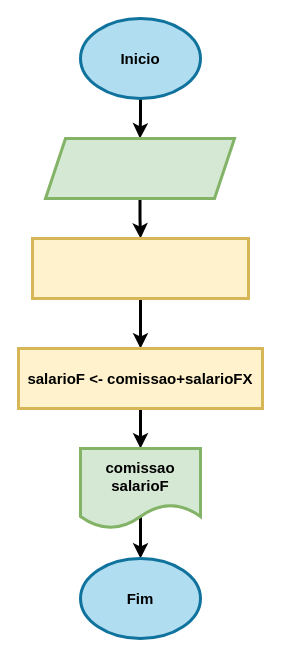
The diagram is 281 pixels wide and 657 high, and some of its shapes have lost their labels. Each missing label, with the centre of its shape:
"comissao <- 15/100*vendas" goes at point (140, 268).
"comissao, salarioFX, salarioF" goes at point (140, 168).
